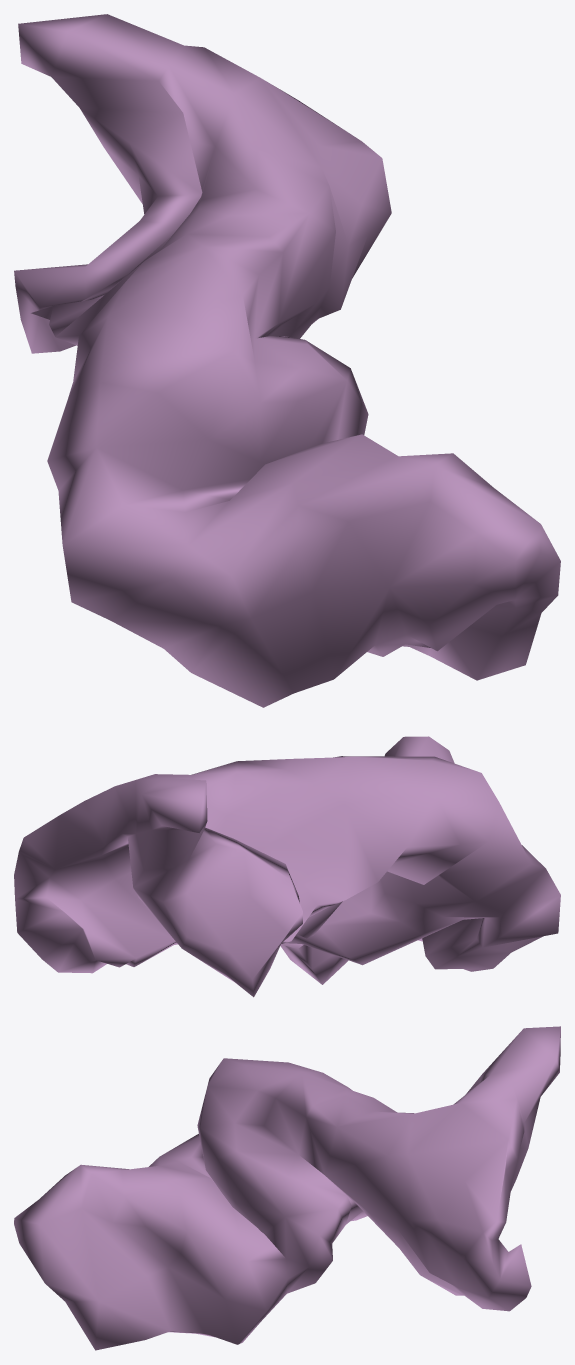
3 views of the same model, one above another, from view 1: azimuth 30°, elevation 25°; view 2: azimuth 150°, elevation 25°; view 3: azimuth 270°, elevation 25° (orthographic). The views are drawn at different scales.
Parts seen in each view (by area): view 1: 左侧枕上回; view 2: 左侧枕上回; view 3: 左侧枕上回.
Part boxes in pixels (x1,y1,x2,y2): 左侧枕上回: (14,14,560,707); 左侧枕上回: (14,736,560,997); 左侧枕上回: (14,1026,560,1350).
Size of the model in its own units: 0.0435 by 0.035 by 0.0585.
